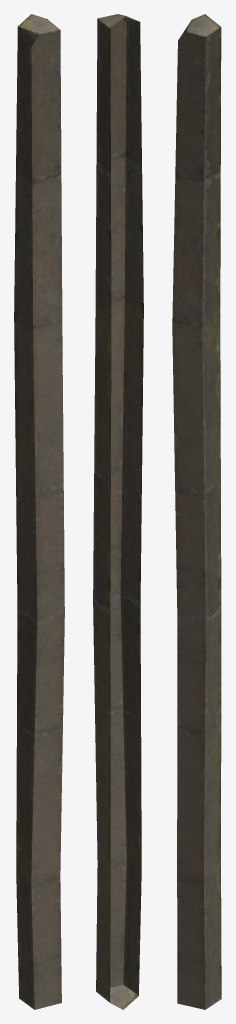
The model's file is border_10m_edge.glb.
The picture shows the model from 3 angles, left to right: view 1: azimuth 30°, elevation 25°; view 2: azimuth 210°, elevation 25°; view 3: azimuth 330°, elevation 25°; orthographic projection.
Visible parts, largest first — view 1: set_0_group_0; view 2: set_0_group_0; view 3: set_0_group_0.
Part boxes in pixels (x1,y1,x2,y2): set_0_group_0: [14, 14, 64, 1009]; set_0_group_0: [93, 14, 143, 1009]; set_0_group_0: [172, 14, 221, 1009].
Size of the model in its own units: 0.3698 by 10.21 by 0.3232.
Materials: 1 (1 with a texture image).
